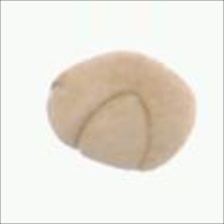L5: (74, 90, 153, 172)
L6: (44, 48, 199, 175)
